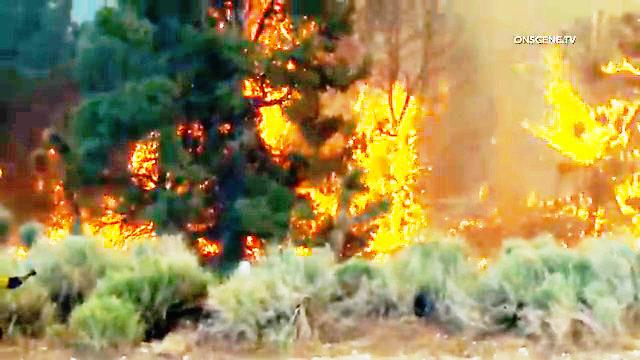fire: (331, 88, 430, 246), (534, 76, 640, 202), (252, 96, 298, 144), (85, 211, 149, 245)
